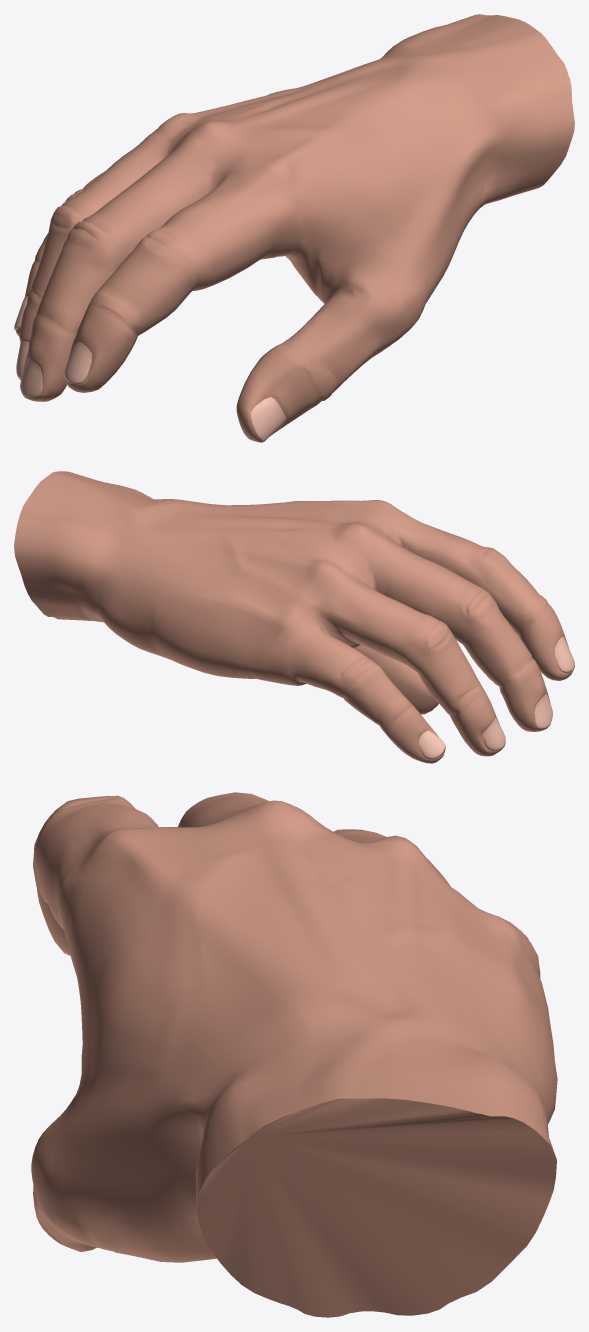
File: hand_02.obj
3 views of the same model, one above another, from view 1: azimuth 30°, elevation 25°; view 2: azimuth 150°, elevation 25°; view 3: azimuth 270°, elevation 25° (orthographic). The views are drawn at different scales.
Parts seen in each view (by area): view 1: Figure_2; view 2: Figure_2; view 3: Figure_2.
Part boxes in pixels (x1,y1,x2,y2): Figure_2: [14, 14, 574, 442]; Figure_2: [14, 471, 574, 763]; Figure_2: [31, 792, 557, 1317].
Bounding box in the file's own units: 0.8071 × 0.3693 × 0.3957.
